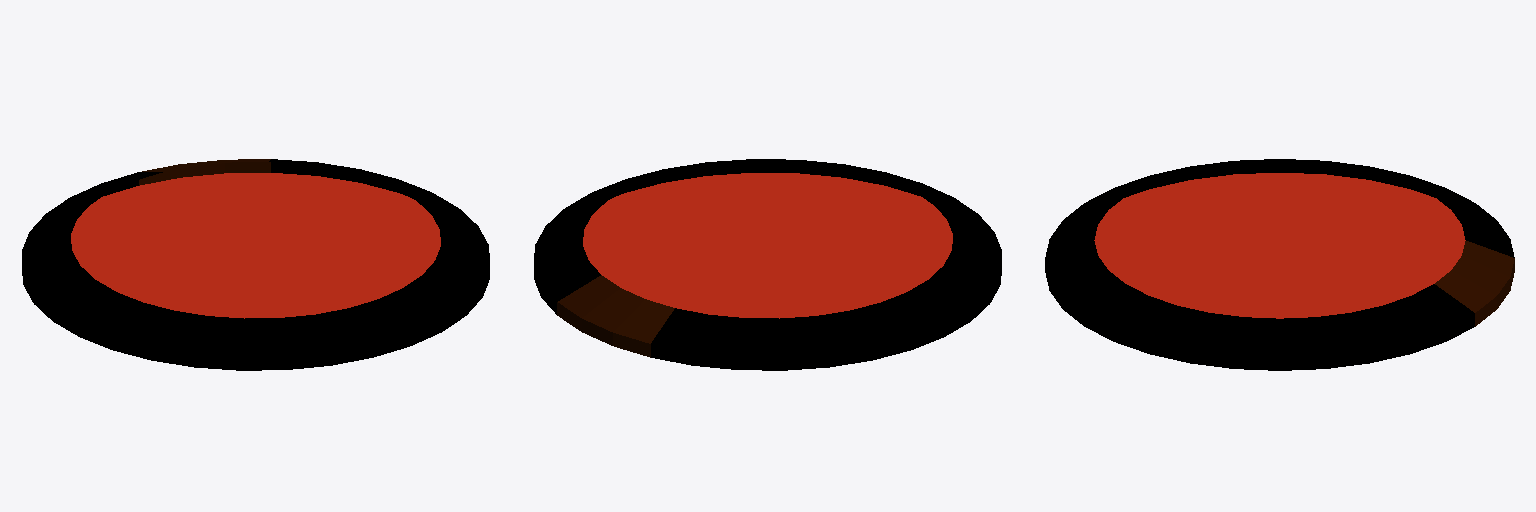
3 renders of one model, left to right at view 1: azimuth 30°, elevation 25°; view 2: azimuth 150°, elevation 25°; view 3: azimuth 270°, elevation 25°, orthographic.
Visible parts, largest first — view 1: disconnect_button; view 2: disconnect_button; view 3: disconnect_button.
Boxes of the visible parts, x1=… form: disconnect_button: x1=22, y1=159, x2=489, y2=370; disconnect_button: x1=534, y1=159, x2=1001, y2=370; disconnect_button: x1=1045, y1=159, x2=1514, y2=370.
Size of the model in its own units: 0.0208 by 0.0015 by 0.0208.